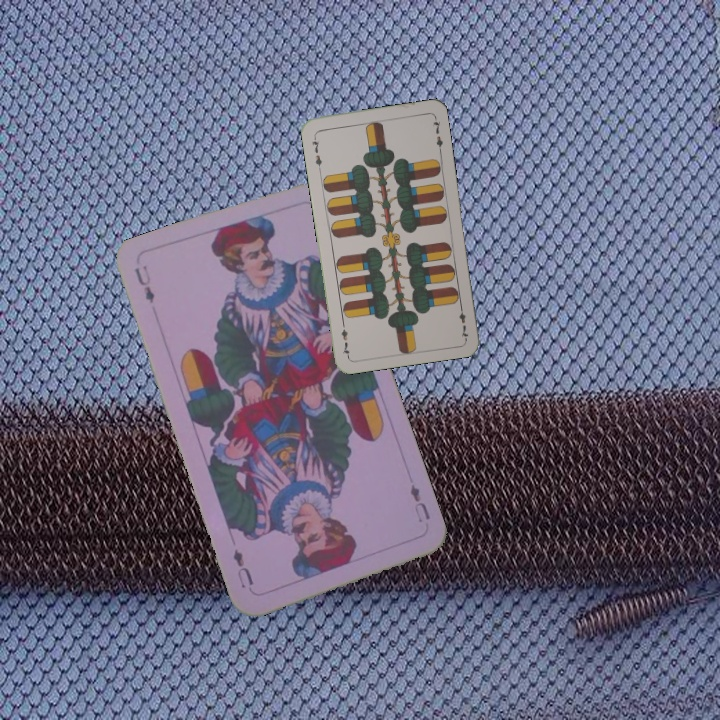E7: (308, 131, 325, 172), (455, 300, 471, 341)
EU: (130, 261, 158, 306), (406, 480, 433, 525)
